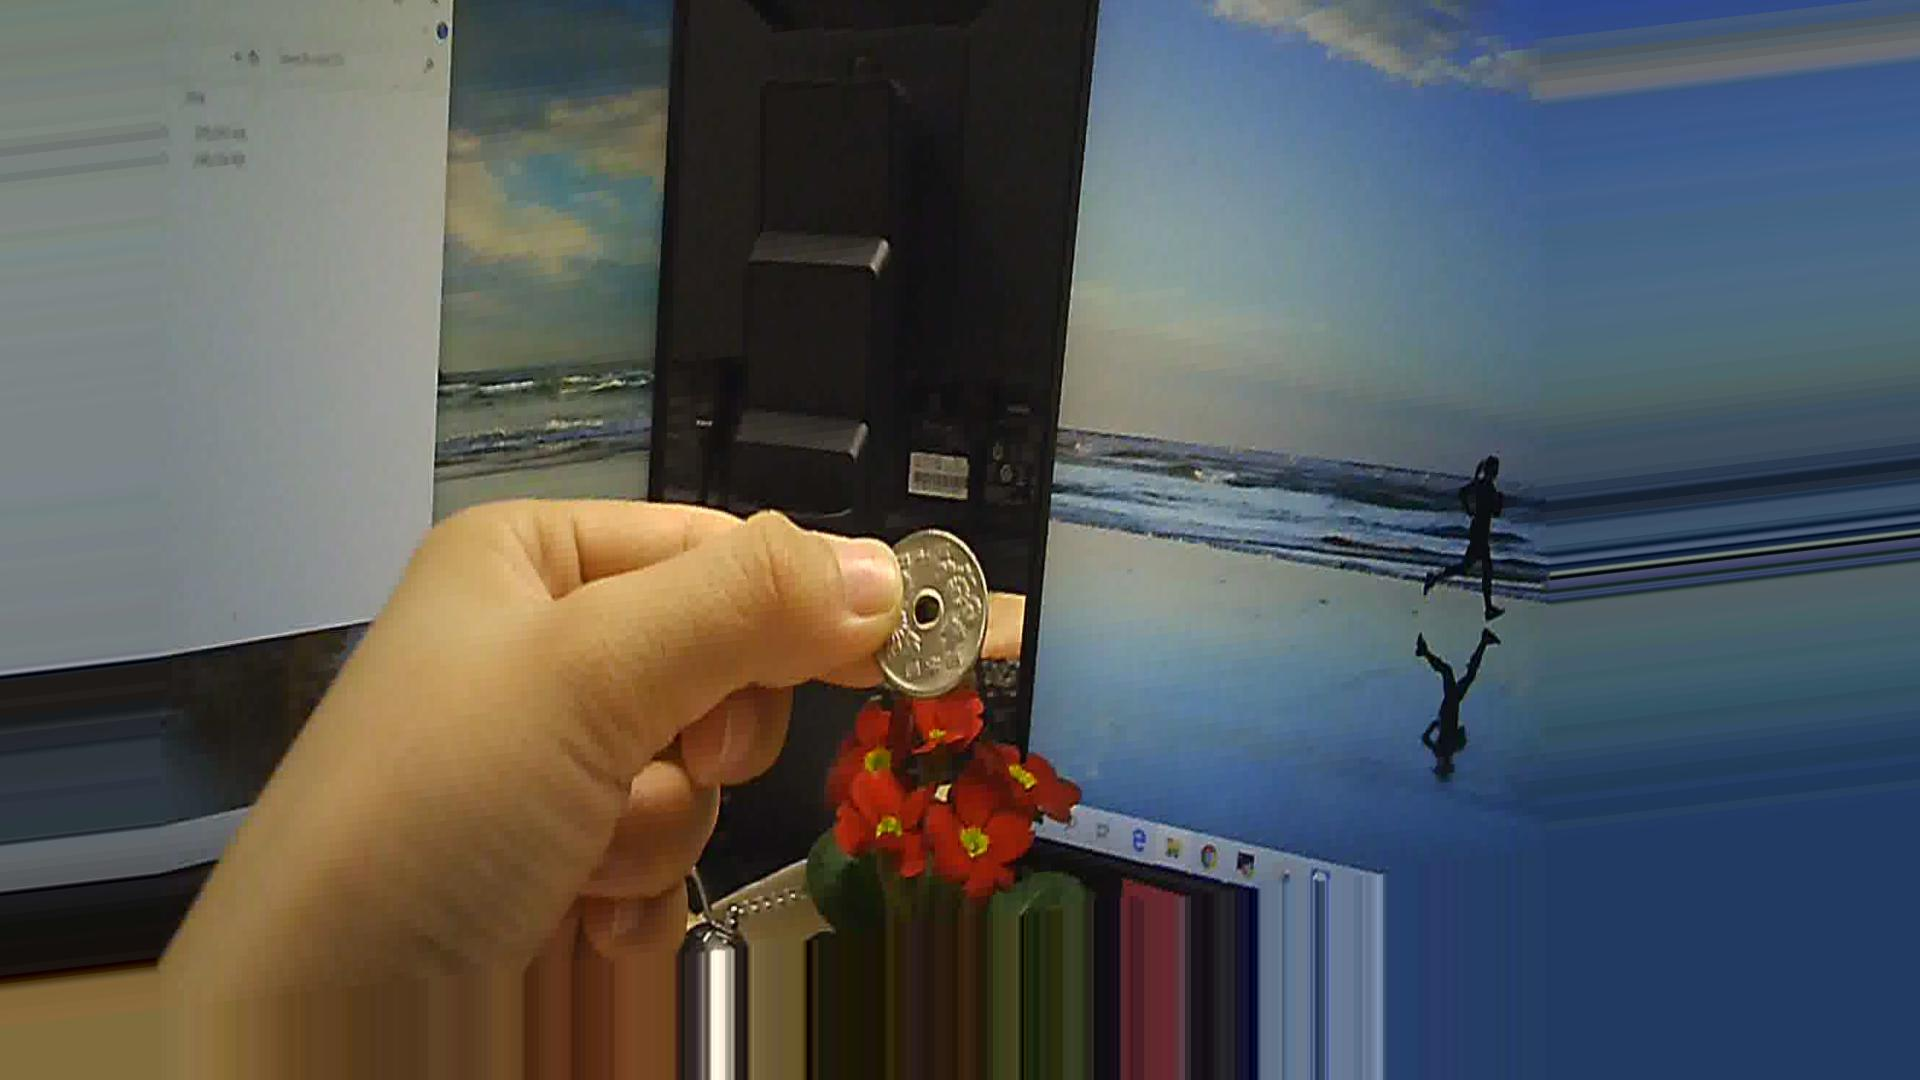50 Yen: (868, 518, 984, 707)
